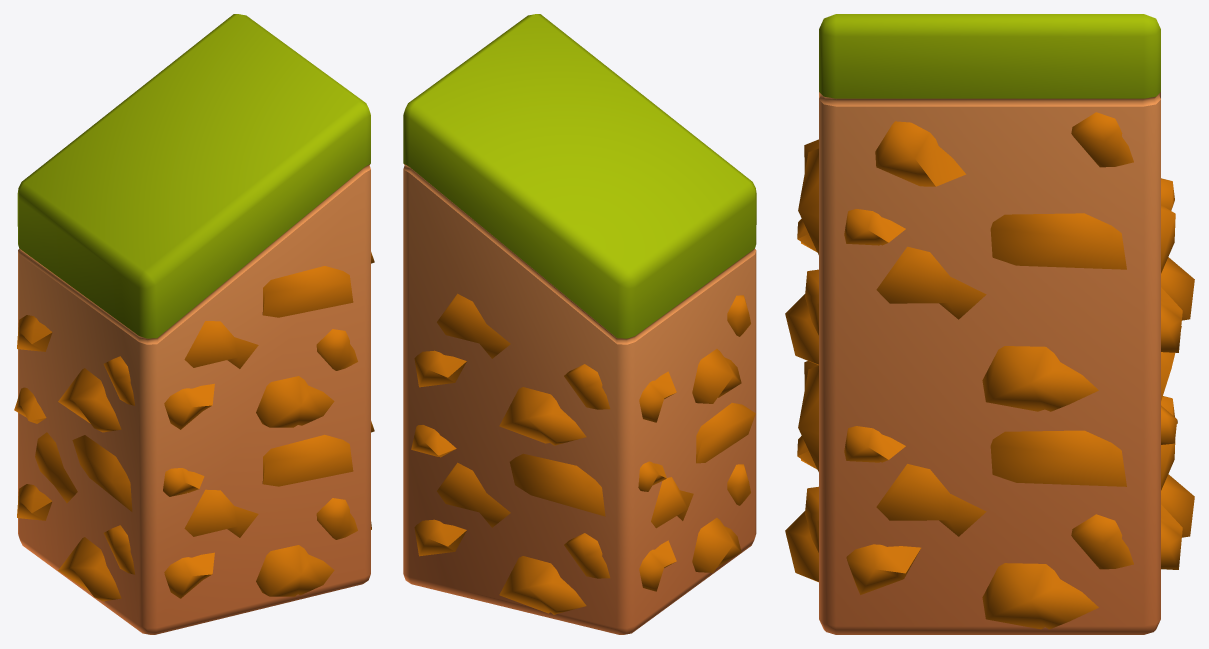
File: 3D_Tile_Ground_01x02B.fbx
3 views of the same model, side by side, from view 1: azimuth 30°, elevation 25°; view 2: azimuth 150°, elevation 25°; view 3: azimuth 270°, elevation 25° (orthographic). The views are drawn at different scales.
Visible parts, largest first — view 1: 3D_Tile_Ground_01x02B; view 2: 3D_Tile_Ground_01x02B; view 3: 3D_Tile_Ground_01x02B.
Boxes of the visible parts, box(x1,y1,x2,y2) form: 3D_Tile_Ground_01x02B: box(14, 14, 374, 634); 3D_Tile_Ground_01x02B: box(403, 14, 756, 634); 3D_Tile_Ground_01x02B: box(785, 14, 1194, 634).
Bounding box in the file's own units: 239 × 400 × 239.
